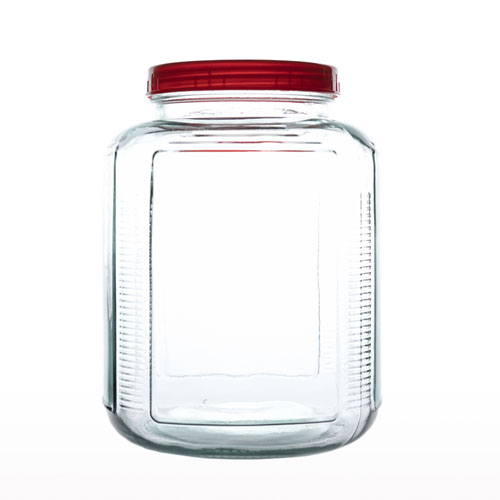glass_bottle: (99, 54, 382, 461)
